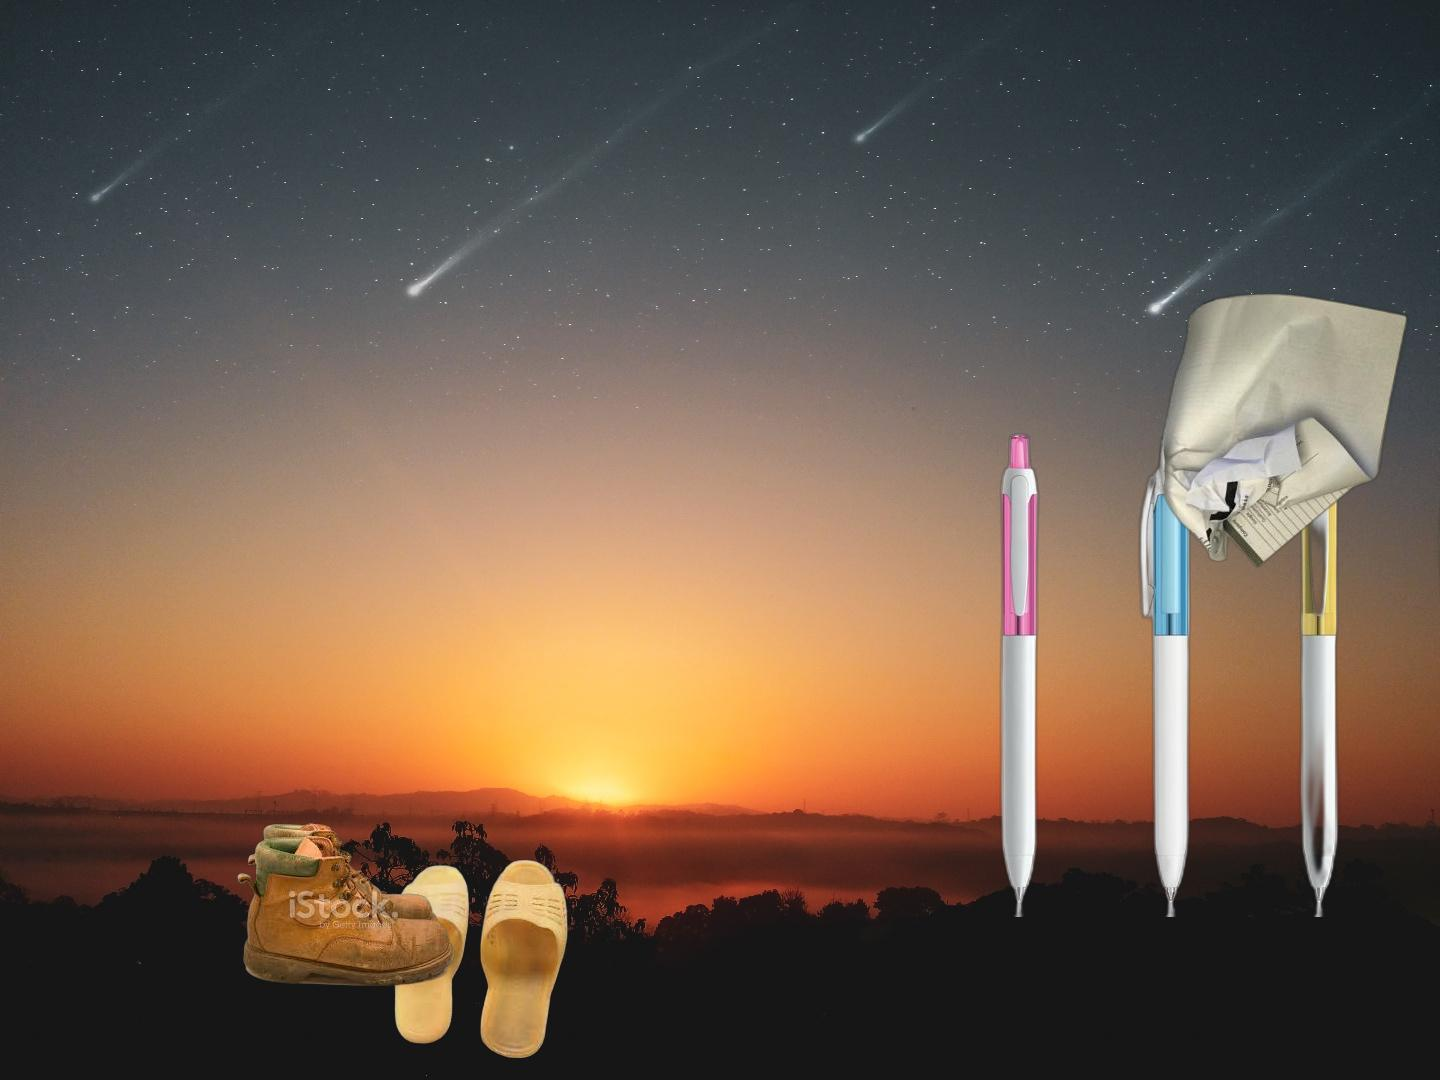paper: (1150, 282, 1413, 571)
penholder: (912, 407, 1440, 917)
shoes: (382, 857, 571, 1061), (235, 820, 457, 989)
